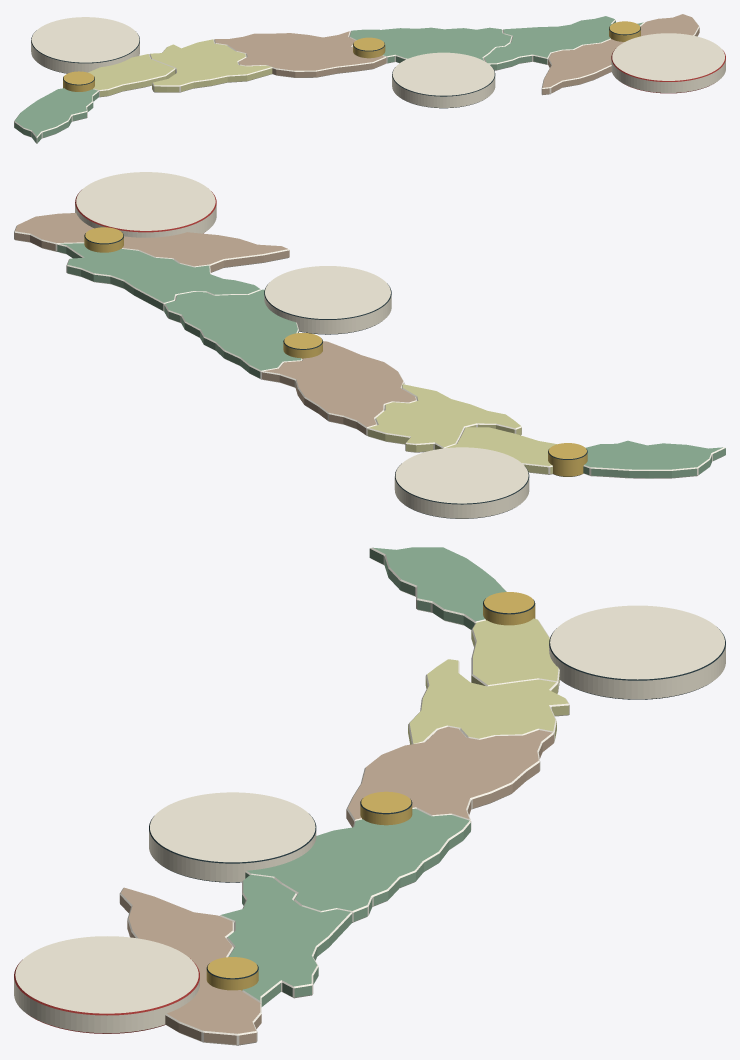
File: atlas-map.glb
The picture shows the model from 3 angles, top to bottom: view 1: azimuth 30°, elevation 25°; view 2: azimuth 150°, elevation 25°; view 3: azimuth 270°, elevation 25°; orthographic projection. The views are drawn at different scales.
Visible parts, largest first — view 1: santiago, las-villas, havana, camaguey-city, matanzas, camaguey-province, oriente, sierra-maestra, pinar-del-rio, la-habana, ec-las-villas-camaguey, ec-pinar-la-habana (+1 smaller); view 2: havana, santiago, las-villas, camaguey-city, camaguey-province, oriente, sierra-maestra, matanzas, pinar-del-rio, la-habana, ec-pinar-la-habana, ec-oriente-sierra (+1 smaller); view 3: santiago, havana, camaguey-province, camaguey-city, las-villas, oriente, sierra-maestra, matanzas, pinar-del-rio, la-habana, ec-pinar-la-habana, ec-oriente-sierra (+1 smaller).
Boxes of the visible parts, box(x1,y1,x2,y2) form: santiago: box(611, 33, 725, 93); las-villas: box(214, 31, 386, 77); havana: box(31, 17, 139, 73); camaguey-city: box(392, 52, 495, 108); matanzas: box(149, 39, 272, 92); camaguey-province: box(349, 27, 511, 63); oriente: box(483, 16, 644, 70); sierra-maestra: box(541, 14, 699, 95); pinar-del-rio: box(14, 88, 98, 143); la-habana: box(88, 54, 175, 97); ec-las-villas-camaguey: box(353, 37, 385, 58); ec-pinar-la-habana: box(63, 71, 94, 91); havana: box(394, 447, 529, 518); santiago: box(75, 172, 216, 237); las-villas: box(262, 341, 416, 435); camaguey-city: box(264, 266, 391, 334); camaguey-province: box(164, 289, 302, 379); oriente: box(57, 243, 260, 311); sierra-maestra: box(14, 213, 289, 272); matanzas: box(367, 384, 521, 452); pinar-del-rio: box(583, 440, 725, 478); la-habana: box(445, 427, 556, 474); ec-pinar-la-habana: box(548, 443, 587, 476); ec-oriente-sierra: box(84, 227, 123, 252); santiago: box(14, 936, 199, 1033); havana: box(549, 605, 725, 699); camaguey-province: box(245, 808, 470, 922); camaguey-city: box(149, 792, 316, 882); las-villas: box(346, 727, 553, 829); oriente: box(219, 874, 352, 1006); sierra-maestra: box(119, 887, 261, 1045); matanzas: box(408, 659, 569, 744); pinar-del-rio: box(369, 547, 506, 629); la-habana: box(471, 618, 559, 691); ec-pinar-la-habana: box(483, 592, 535, 625); ec-oriente-sierra: box(206, 957, 258, 990).
Bounding box in the file's own units: 12.4 × 0.28 × 7.65.
